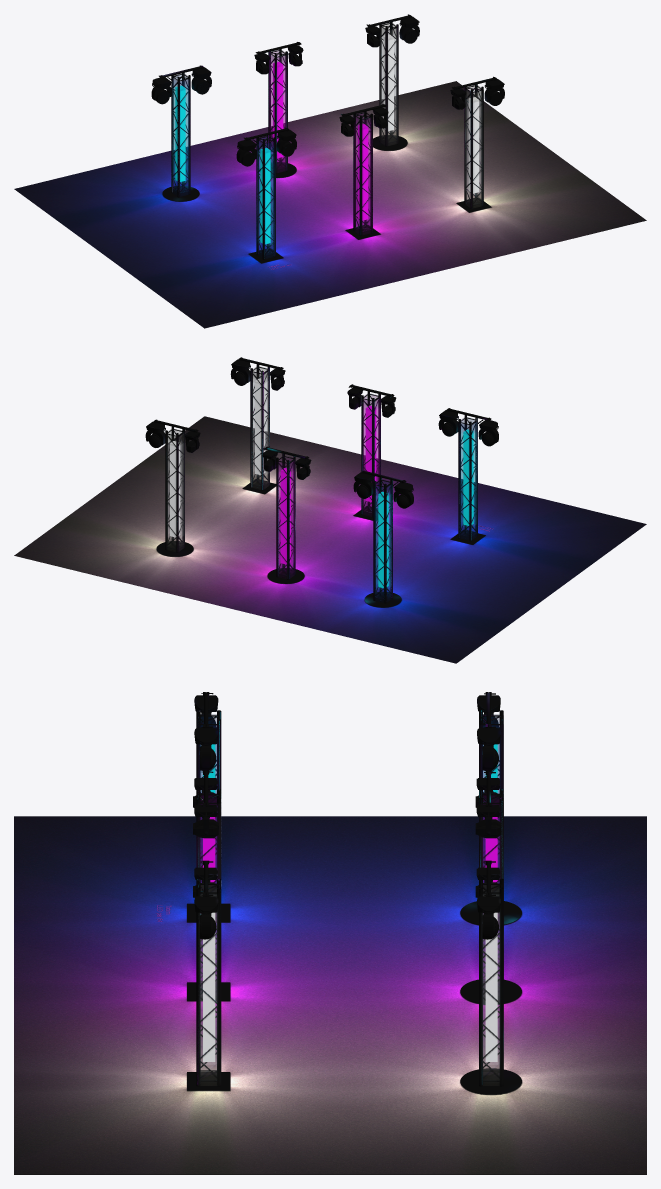
File: extrasoundpro.glb
3 renders of one model, top to bottom at view 1: azimuth 30°, elevation 25°; view 2: azimuth 150°, elevation 25°; view 3: azimuth 270°, elevation 25°, orthographic. The views are drawn at different scales.
Parts seen in each view (by area): view 1: skfb_offset; view 2: skfb_offset; view 3: skfb_offset.
Boxes of the visible parts, x1,y1,x2,y2 form: skfb_offset: (14, 14, 646, 328); skfb_offset: (14, 357, 646, 663); skfb_offset: (14, 692, 646, 1174).
Bounding box in the file's own units: 9802 × 2621 × 7316.
Materials: 6 (5 with a texture image).
